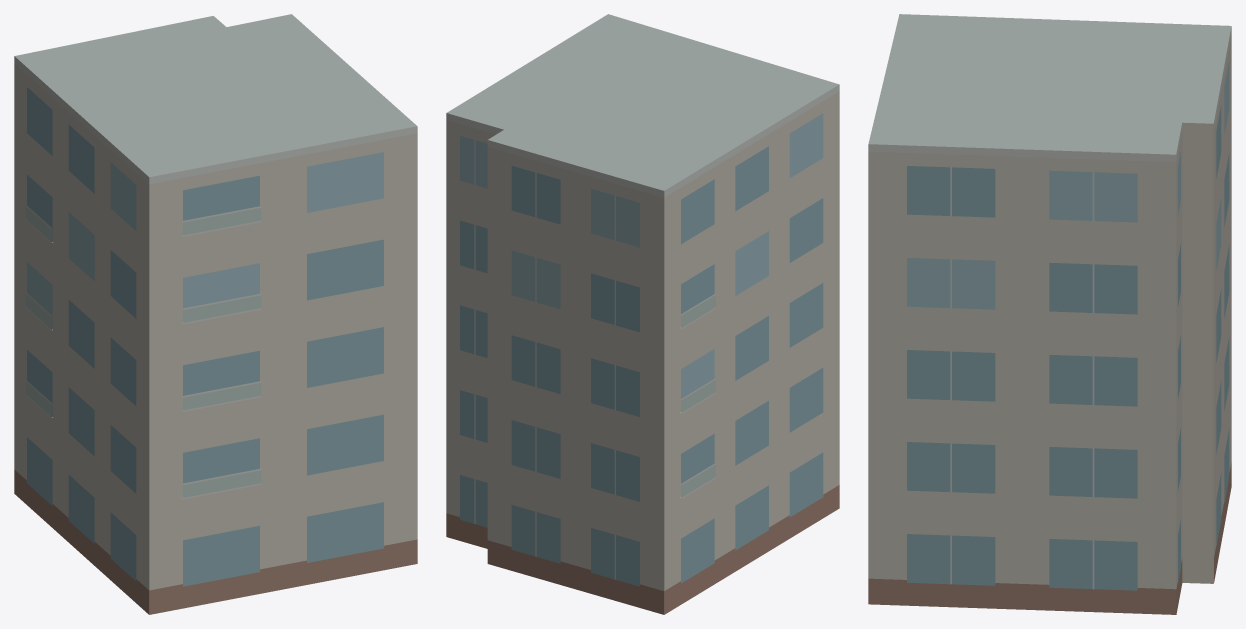
The model's file is survey-upis-32652680.glb.
3 renders of one model, left to right at view 1: azimuth 30°, elevation 25°; view 2: azimuth 150°, elevation 25°; view 3: azimuth 270°, elevation 25°, orthographic. The views are drawn at different scales.
Visible parts, largest first — view 1: survey-upis-32652680.tmp; view 2: survey-upis-32652680.tmp; view 3: survey-upis-32652680.tmp.
Part boxes in pixels (x1,y1,x2,y2): survey-upis-32652680.tmp: (14, 14, 417, 614); survey-upis-32652680.tmp: (446, 14, 839, 614); survey-upis-32652680.tmp: (868, 14, 1231, 614).
Bounding box in the file's own units: 9.98 × 15.2 × 10.88.
